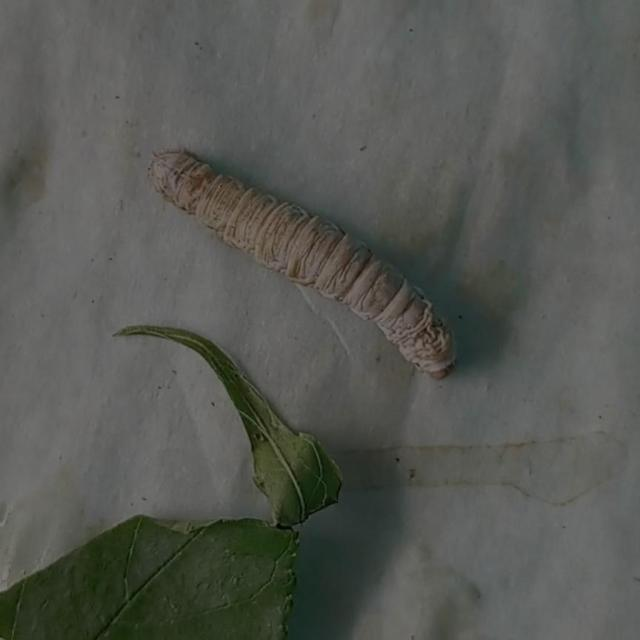Grasserie: (142, 138, 477, 392)
